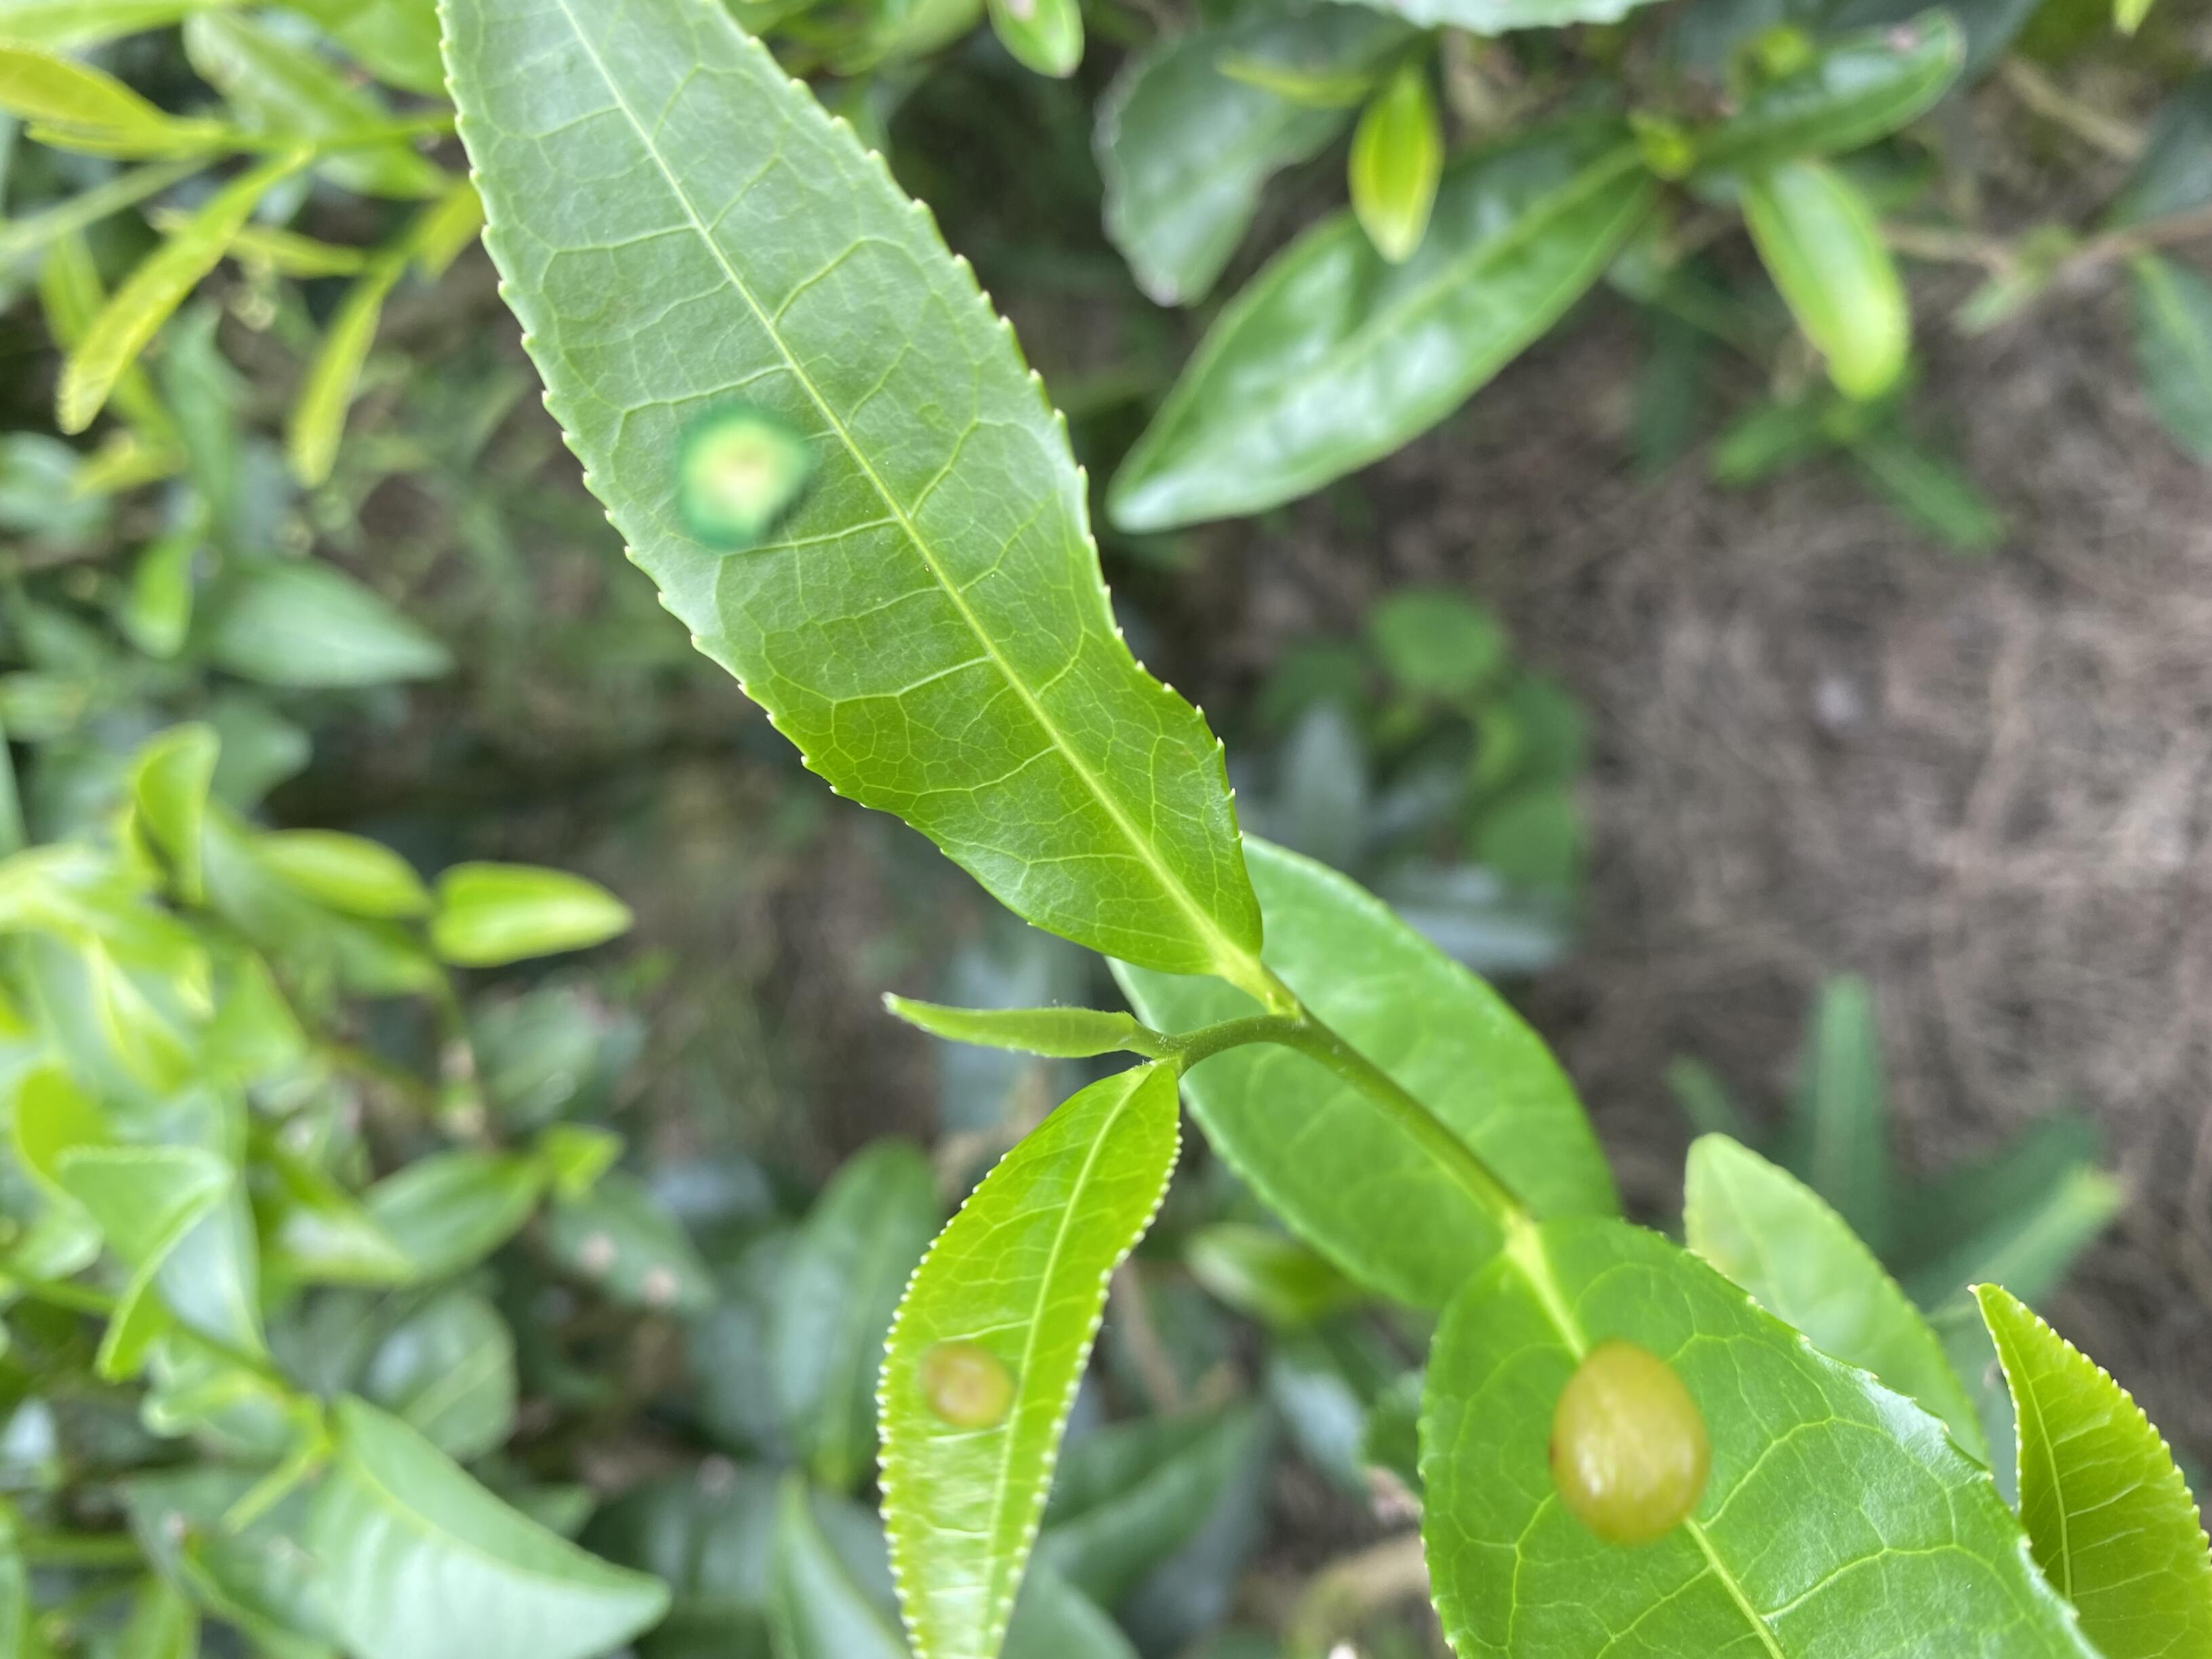chabing_low: (434, 2, 1264, 979), (1413, 1209, 2102, 1656), (869, 1065, 1186, 1656)
healthy: (1968, 1277, 2210, 1650)
